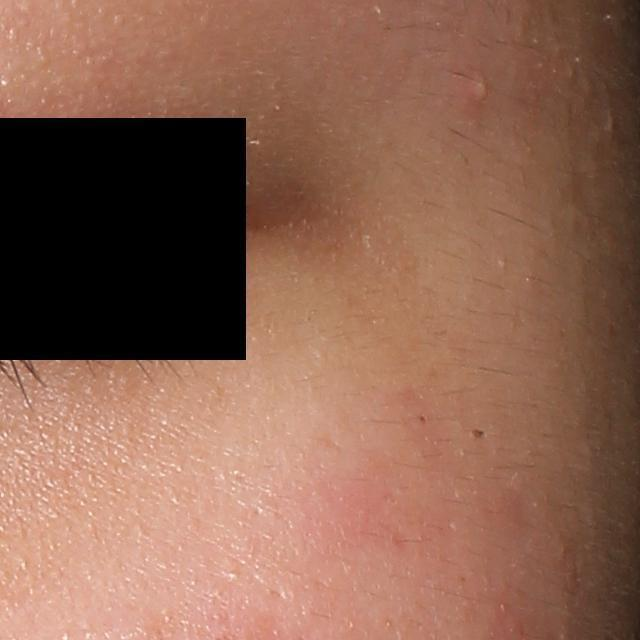comedo: (419, 413, 429, 425)
